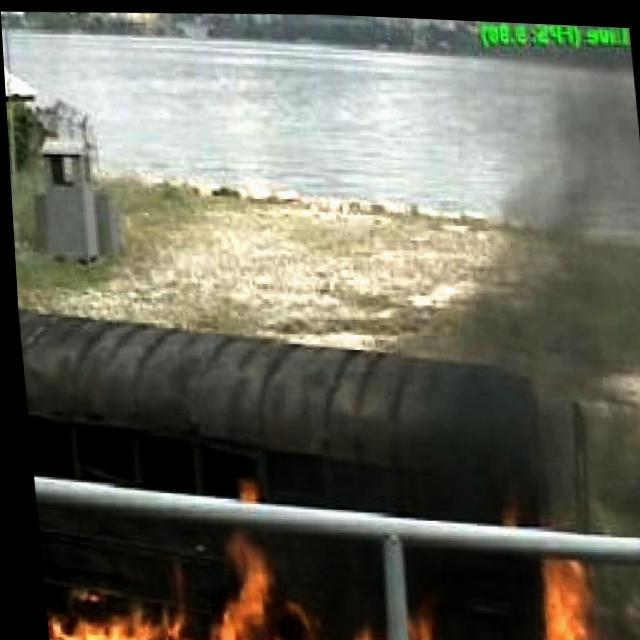helmet: (33, 543, 311, 640), (496, 555, 640, 640), (322, 582, 437, 640)
